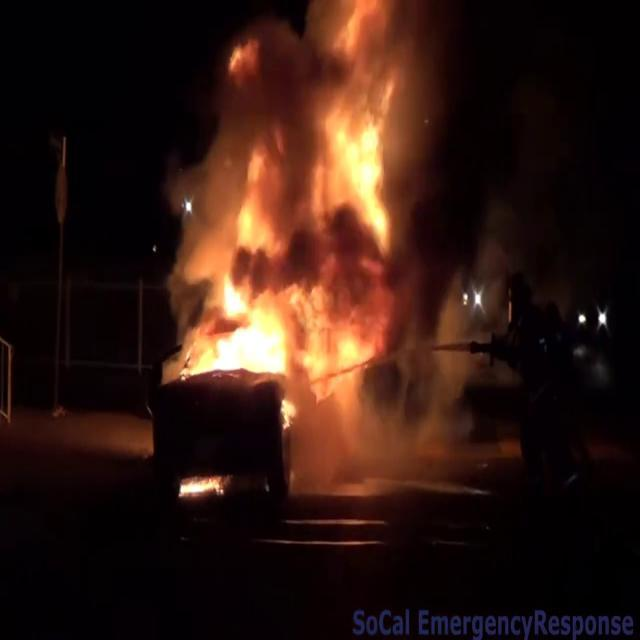Fire: (166, 5, 434, 395), (174, 471, 233, 506)
